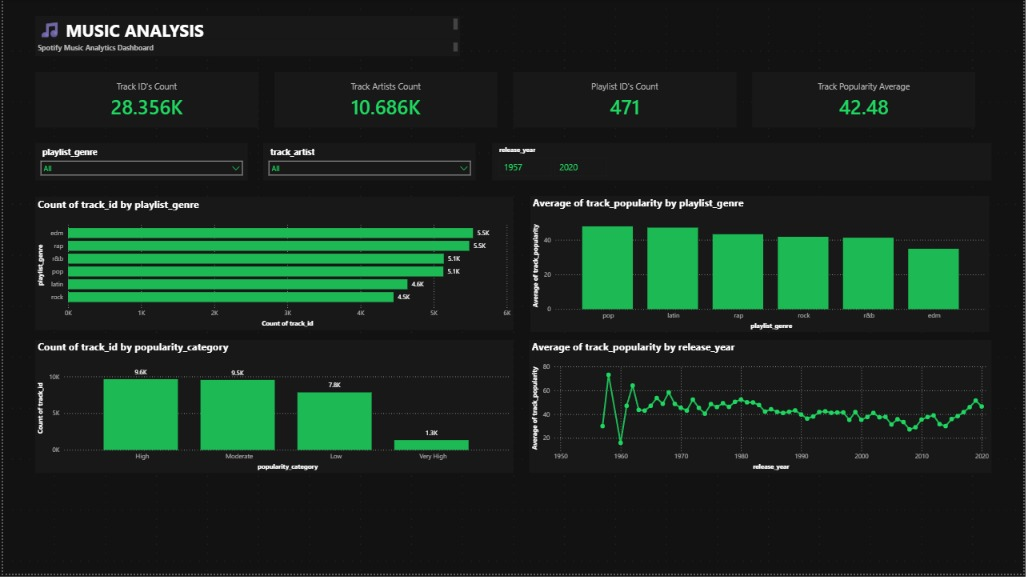

The dashboard page shown, as its layout file describes it:
{"tool":"powerbi","page":{"name":"Overview","canvas":[1280,720],"ordinal":0},"visuals":[{"type":"cardVisual","fields":{"Data":["Count(music_analysis_project analysis_tracks.track_id)"]},"box":[9.5,16.2,203,113.7],"z":0},{"type":"cardVisual","fields":{"Data":["Count(music_analysis_project analysis_tracks.track_artist)"]},"box":[194.9,24.4,211.1,98.8],"z":1000},{"type":"cardVisual","fields":{"Data":["Count(music_analysis_project analysis_tracks.playlist_id)"]},"box":[426.3,21.7,213.8,105.6],"z":2000},{"type":"cardVisual","fields":{"Data":["Avg(music_analysis_project analysis_tracks.track_popularity)"]},"box":[663.1,33.8,280.1,120.4],"z":3000},{"type":"clusteredBarChart","fields":{"Category":["music_analysis_project analysis_tracks.playlist_genre"],"Y":["Count(music_analysis_project analysis_tracks.track_id)"]},"box":[10.8,154.3,247.7,226],"z":3001},{"type":"clusteredColumnChart","fields":{"Category":["music_analysis_project analysis_tracks.playlist_genre"],"Y":["Avg(music_analysis_project analysis_tracks.track_popularity)"]},"box":[300.4,152.9,231.4,227.4],"z":3002},{"type":"clusteredColumnChart","fields":{"Category":["music_analysis_project analysis_tracks.popularity_category"],"Y":["Count(music_analysis_project analysis_tracks.track_id)"]},"box":[577.9,154.3,235.5,238.2],"z":3003},{"type":"lineChart","fields":{"Category":["music_analysis_project analysis_tracks.release_year"],"Y":["Avg(music_analysis_project analysis_tracks.track_popularity)"]},"box":[856.7,152.9,280.1,238.2],"z":3004},{"type":"scatterChart","fields":{"X":["music_analysis_project genre_summary.avg_danceability"],"Y":["music_analysis_project genre_summary.avg_energy"],"Series":["music_analysis_project genre_summary.playlist_genre"],"Size":["CountNonNull(music_analysis_project genre_summary.avg_popularity)"]},"box":[10.8,401.9,247.7,212.5],"z":3005},{"type":"slicer","fields":{"Values":["music_analysis_project analysis_tracks.playlist_genre"]},"box":[289.6,430.4,231.4,77.1],"z":3006},{"type":"slicer","fields":{"Values":["music_analysis_project analysis_tracks.release_year"]},"box":[297.7,529.2,234.1,106.9],"z":3007},{"type":"slicer","fields":{"Values":["music_analysis_project analysis_tracks.track_artist"]},"box":[599.5,453.4,353.2,150.2],"z":3008}]}

Visuals, with their boxes in screenshot pixels (x1, y1, x2, y2), scaled from the page's 1280x720 canvas onto the 1026x577 screenshot:
cardVisual - Count(music_analysis_project analysis_tracks.track_id): rect(8, 13, 170, 104)
cardVisual - Count(music_analysis_project analysis_tracks.track_artist): rect(156, 20, 325, 99)
cardVisual - Count(music_analysis_project analysis_tracks.playlist_id): rect(342, 17, 513, 102)
cardVisual - Avg(music_analysis_project analysis_tracks.track_popularity): rect(532, 27, 756, 124)
clusteredBarChart - music_analysis_project analysis_tracks.playlist_genre x Count(music_analysis_project analysis_tracks.track_id): rect(9, 124, 207, 305)
clusteredColumnChart - music_analysis_project analysis_tracks.playlist_genre x Avg(music_analysis_project analysis_tracks.track_popularity): rect(241, 123, 426, 305)
clusteredColumnChart - music_analysis_project analysis_tracks.popularity_category x Count(music_analysis_project analysis_tracks.track_id): rect(463, 124, 652, 315)
lineChart - music_analysis_project analysis_tracks.release_year x Avg(music_analysis_project analysis_tracks.track_popularity): rect(687, 123, 911, 313)
scatterChart - music_analysis_project genre_summary.avg_danceability x music_analysis_project genre_summary.avg_energy: rect(9, 322, 207, 492)
slicer - music_analysis_project analysis_tracks.playlist_genre: rect(232, 345, 418, 407)
slicer - music_analysis_project analysis_tracks.release_year: rect(239, 424, 426, 510)
slicer - music_analysis_project analysis_tracks.track_artist: rect(481, 363, 764, 484)
